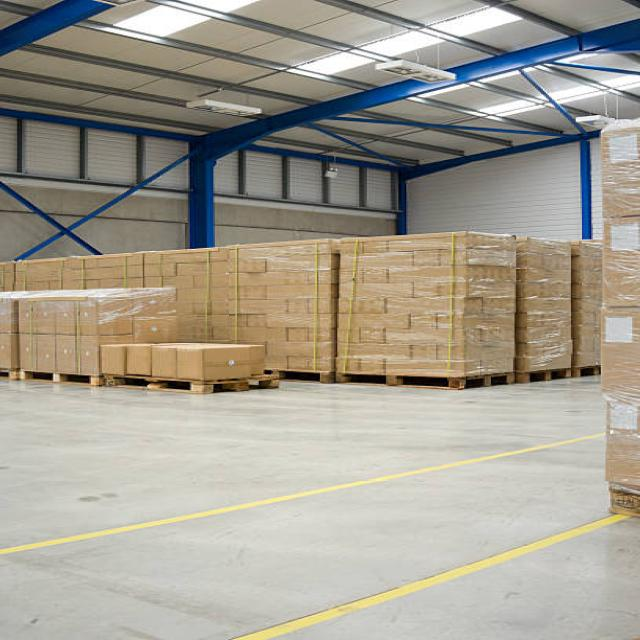Wooden-Pallets: (316, 360, 524, 400), (94, 369, 273, 405), (4, 363, 96, 396)
